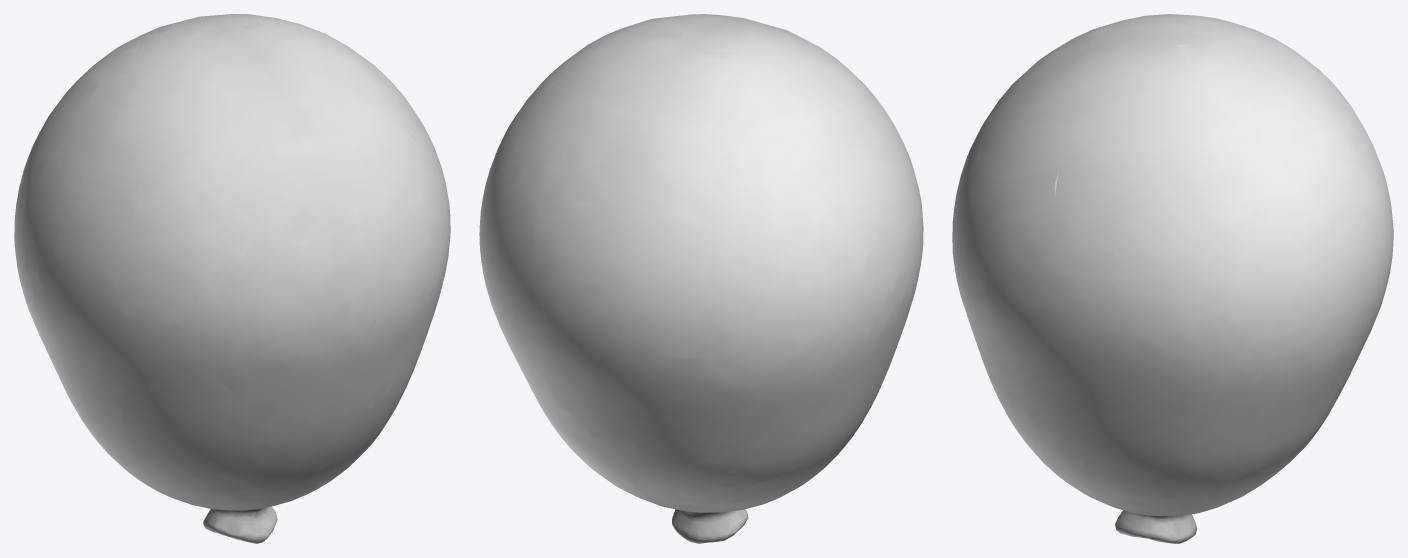
File: Balloon.fbx
The picture shows the model from 3 angles, left to right: view 1: azimuth 30°, elevation 25°; view 2: azimuth 150°, elevation 25°; view 3: azimuth 270°, elevation 25°; orthographic projection.
Visible parts, largest first — view 1: Balloon_V1; view 2: Balloon_V1; view 3: Balloon_V1.
Boxes of the visible parts, <box> form: Balloon_V1: <box>14,14,450,543</box>; Balloon_V1: <box>479,14,923,543</box>; Balloon_V1: <box>952,14,1393,543</box>.
Size of the model in its own units: 21.02 by 26.06 by 20.86.
